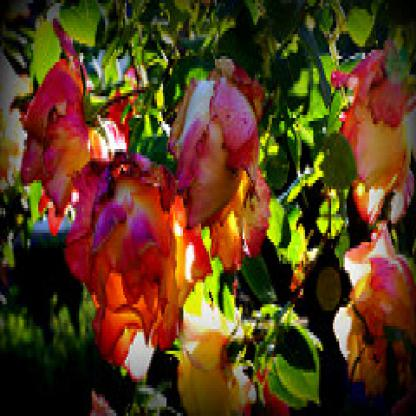Rose-Mawar: (17, 54, 261, 414), (317, 44, 414, 411)
